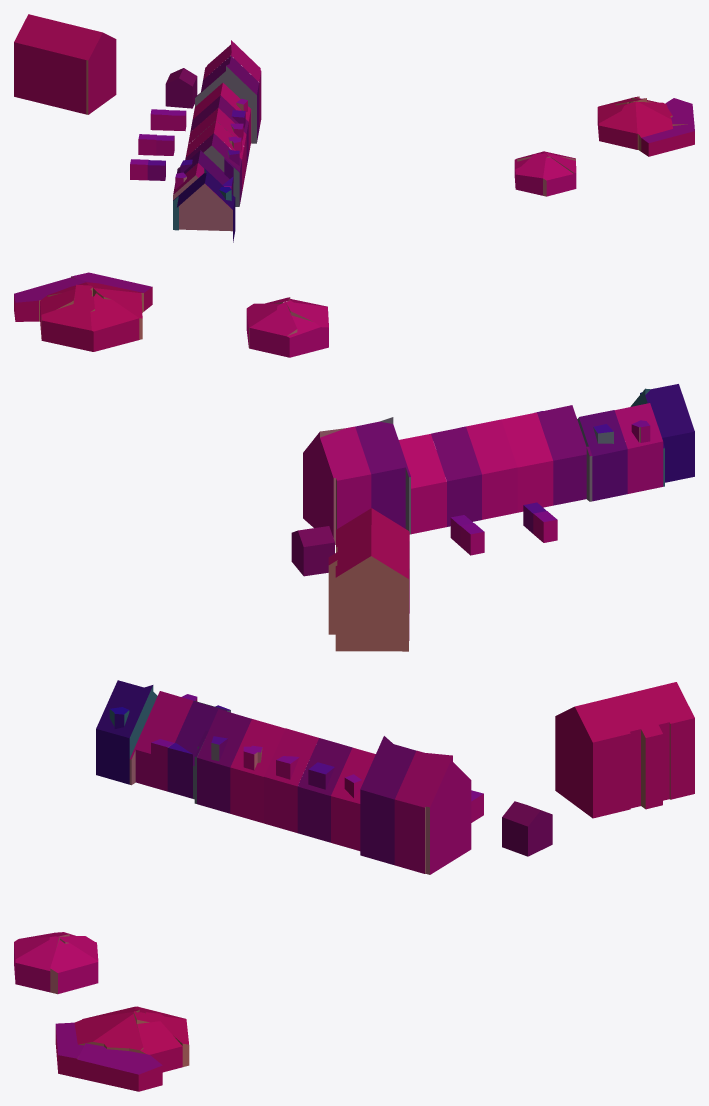
File: buildings_10_14.glb
3 renders of one model, top to bottom at view 1: azimuth 30°, elevation 25°; view 2: azimuth 150°, elevation 25°; view 3: azimuth 270°, elevation 25°, orthographic. The views are drawn at different scales.
Parts seen in each view (by area): view 1: buildings_10_14; view 2: buildings_10_14; view 3: buildings_10_14.
Boxes of the visible parts, <box> form: buildings_10_14: <box>14,14,694,242</box>; buildings_10_14: <box>14,272,694,651</box>; buildings_10_14: <box>14,680,694,1091</box>.
Size of the model in its own units: 102 by 14.56 by 85.37.
